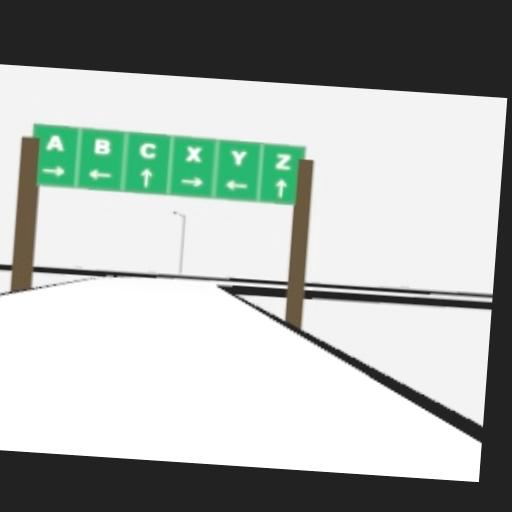A: (44, 136, 65, 153)
B: (94, 138, 111, 155)
C: (139, 142, 156, 159)
Left: (222, 178, 250, 191), (87, 168, 113, 181)
Right: (180, 174, 204, 187), (41, 165, 67, 176)
Straight: (274, 178, 287, 199), (139, 168, 152, 189)
X: (186, 146, 203, 163)
Y: (230, 150, 247, 165)
Z: (273, 152, 290, 169)
